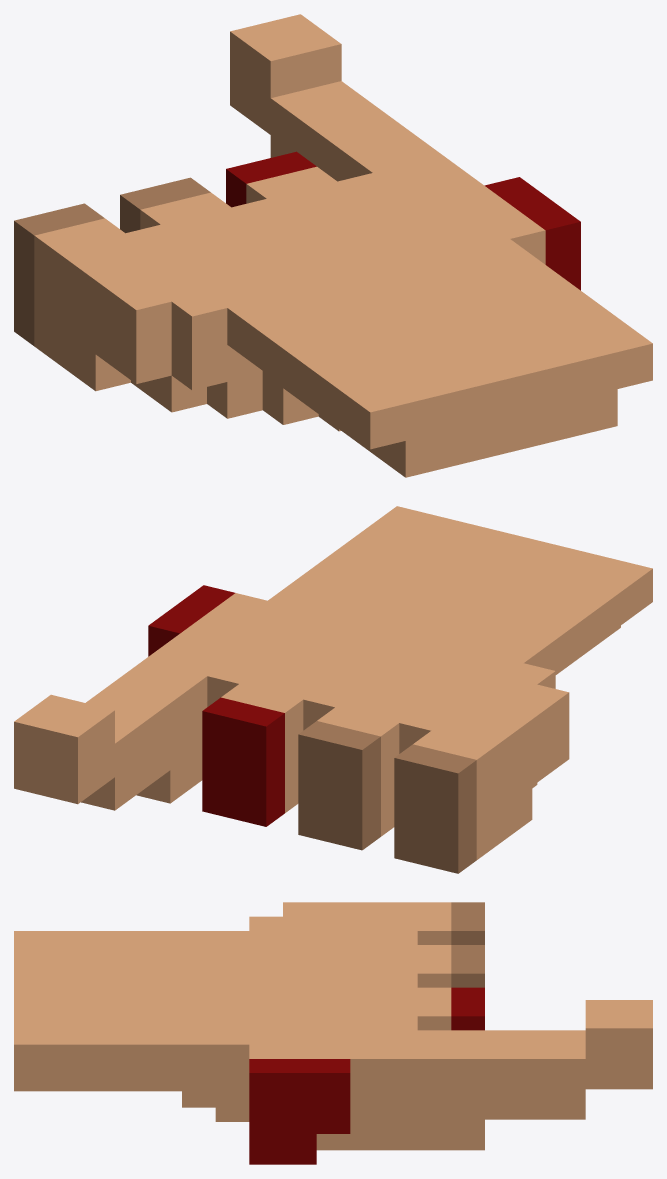
The model's file is PlayerHand1F.obj.
3 views of the same model, one above another, from view 1: azimuth 30°, elevation 25°; view 2: azimuth 150°, elevation 25°; view 3: azimuth 270°, elevation 25° (orthographic). The views are drawn at different scales.
Bounding box in the file's own units: 1.2 × 0.4 × 1.9.
Materials: 1 (1 with a texture image).
